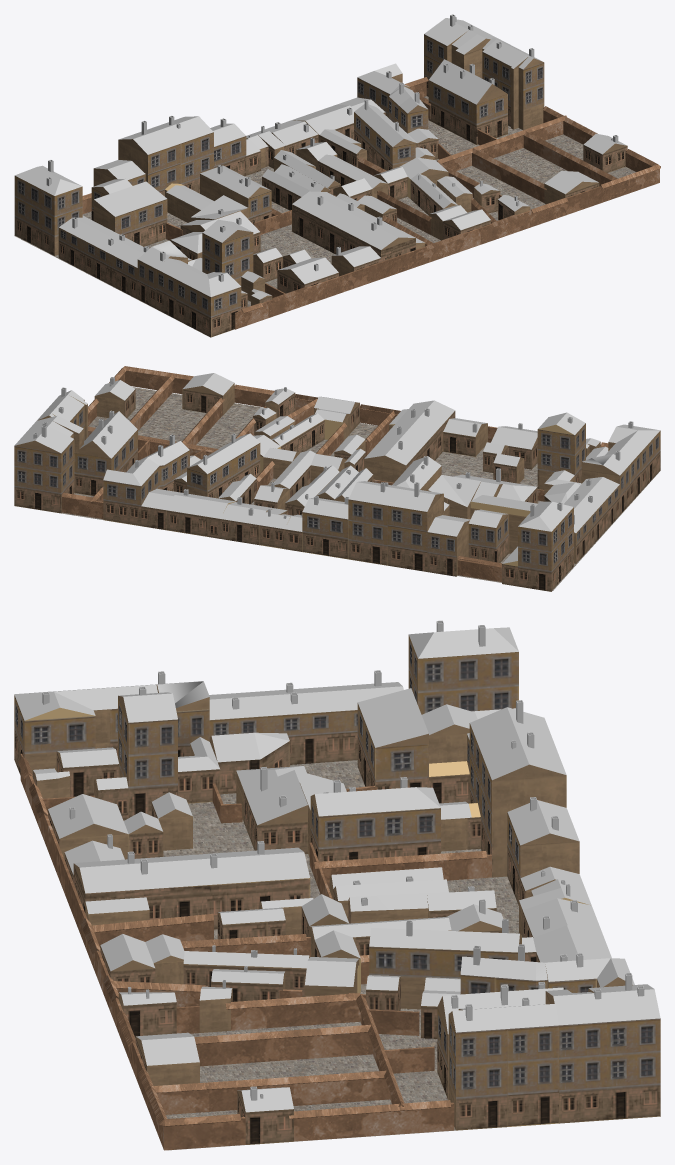
The model's file is IDL_Etape3.dae.
3 views of the same model, one above another, from view 1: azimuth 30°, elevation 25°; view 2: azimuth 150°, elevation 25°; view 3: azimuth 270°, elevation 25° (orthographic). The views are drawn at different scales.
Parts seen in each view (by area): view 1: Batiments, IDL_Etape3_Toit, IDL_Etape3_Murs3, IDL_Etape3_Sol, IDL_Etape3_Toit_Murs, Face, IDL_Etape3_Cheminees; view 2: Batiments, IDL_Etape3_Toit, IDL_Etape3_Murs3, IDL_Etape3_Sol, IDL_Etape3_Toit_Murs, Face, IDL_Etape3_Cheminees; view 3: Batiments, IDL_Etape3_Toit, IDL_Etape3_Murs3, IDL_Etape3_Toit_Murs, IDL_Etape3_Sol, Face, IDL_Etape3_Cheminees.
Boxes of the visible parts, bbox=[...] form: Batiments: bbox=[14, 34, 627, 337]; IDL_Etape3_Toit: bbox=[15, 18, 626, 299]; IDL_Etape3_Murs3: bbox=[82, 82, 659, 329]; IDL_Etape3_Sol: bbox=[14, 96, 635, 336]; IDL_Etape3_Toit_Murs: bbox=[82, 77, 660, 313]; Face: bbox=[92, 32, 627, 299]; IDL_Etape3_Cheminees: bbox=[46, 14, 618, 281]; Batiments: bbox=[14, 383, 660, 591]; IDL_Etape3_Toit: bbox=[14, 373, 659, 563]; IDL_Etape3_Murs3: bbox=[62, 371, 601, 581]; IDL_Etape3_Sol: bbox=[19, 387, 660, 590]; IDL_Etape3_Toit_Murs: bbox=[61, 366, 608, 567]; Face: bbox=[14, 386, 619, 535]; IDL_Etape3_Cheminees: bbox=[33, 377, 633, 524]; Batiments: bbox=[14, 635, 660, 1144]; IDL_Etape3_Toit: bbox=[14, 627, 660, 1112]; IDL_Etape3_Murs3: bbox=[20, 754, 491, 1150]; IDL_Etape3_Toit_Murs: bbox=[18, 757, 487, 1126]; IDL_Etape3_Sol: bbox=[15, 760, 660, 1150]; Face: bbox=[33, 685, 632, 1111]; IDL_Etape3_Cheminees: bbox=[42, 620, 644, 1100].
Bounding box in the file's own units: 356 × 228 × 50.98.
